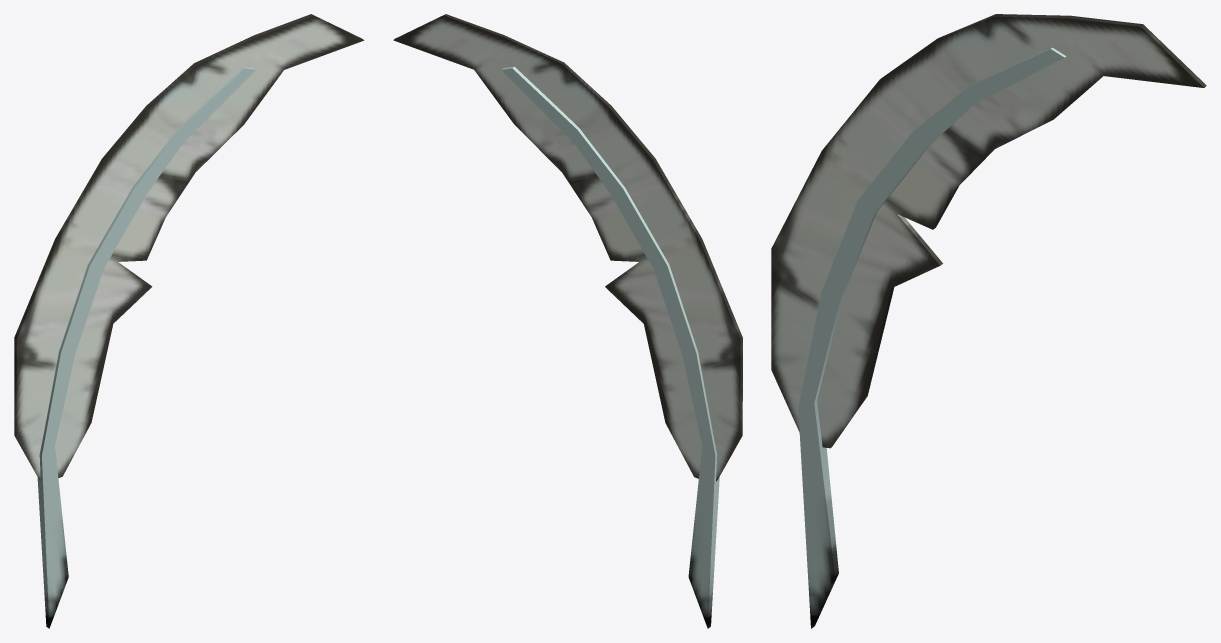
Rendered from e_asset_penquill.fbx.
3 views of the same model, side by side, from view 1: azimuth 30°, elevation 25°; view 2: azimuth 150°, elevation 25°; view 3: azimuth 330°, elevation 25° (orthographic). The views are drawn at different scales.
Parts seen in each view (by area): view 1: polySurface941; view 2: polySurface941; view 3: polySurface941.
Boxes of the visible parts, bbox=[...] form: polySurface941: bbox=[14, 14, 364, 628]; polySurface941: bbox=[393, 14, 742, 628]; polySurface941: bbox=[771, 14, 1206, 628].
Size of the model in its own units: 0.2376 by 0.3578 by 0.00716.
